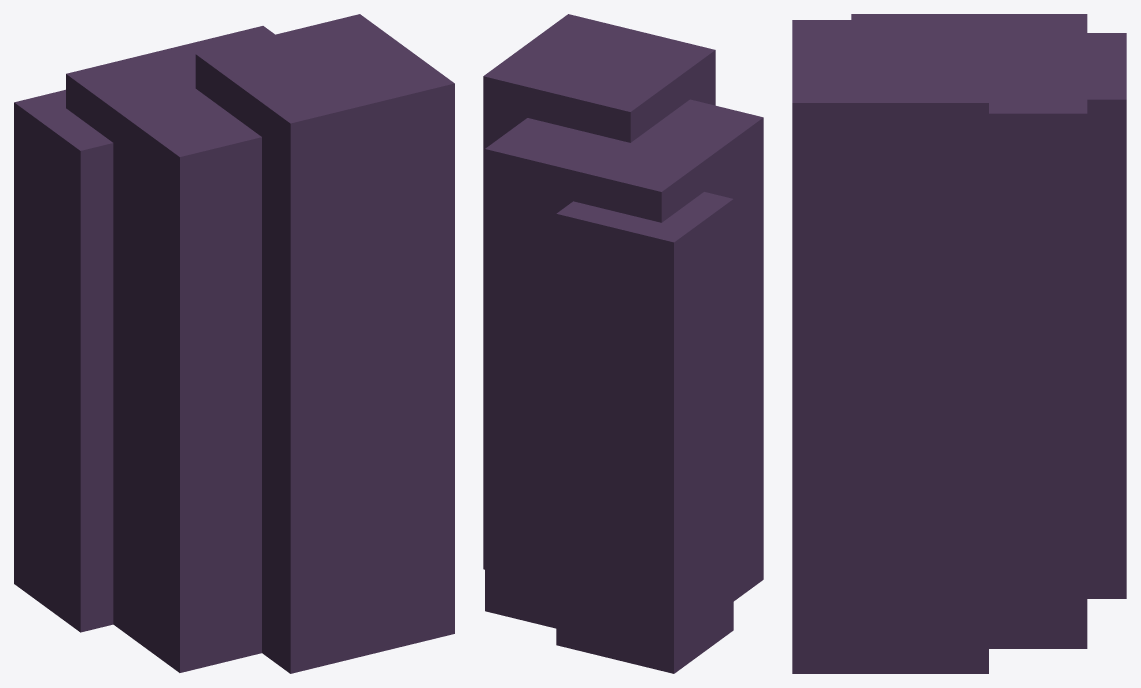
Rendered from Level3Crystal_6.dae.
The picture shows the model from 3 angles, left to right: view 1: azimuth 30°, elevation 25°; view 2: azimuth 150°, elevation 25°; view 3: azimuth 270°, elevation 25°; orthographic projection. The views are drawn at different scales.
Visible parts, largest first — view 1: Level3Crystal_6; view 2: Level3Crystal_6; view 3: Level3Crystal_6.
Part boxes in pixels (x1,y1,x2,y2): Level3Crystal_6: [14, 14, 454, 673]; Level3Crystal_6: [483, 14, 763, 673]; Level3Crystal_6: [792, 14, 1126, 673].
Bounding box in the file's own units: 1.7 × 3.2 × 1.7.
Materials: 1 (1 with a texture image).
